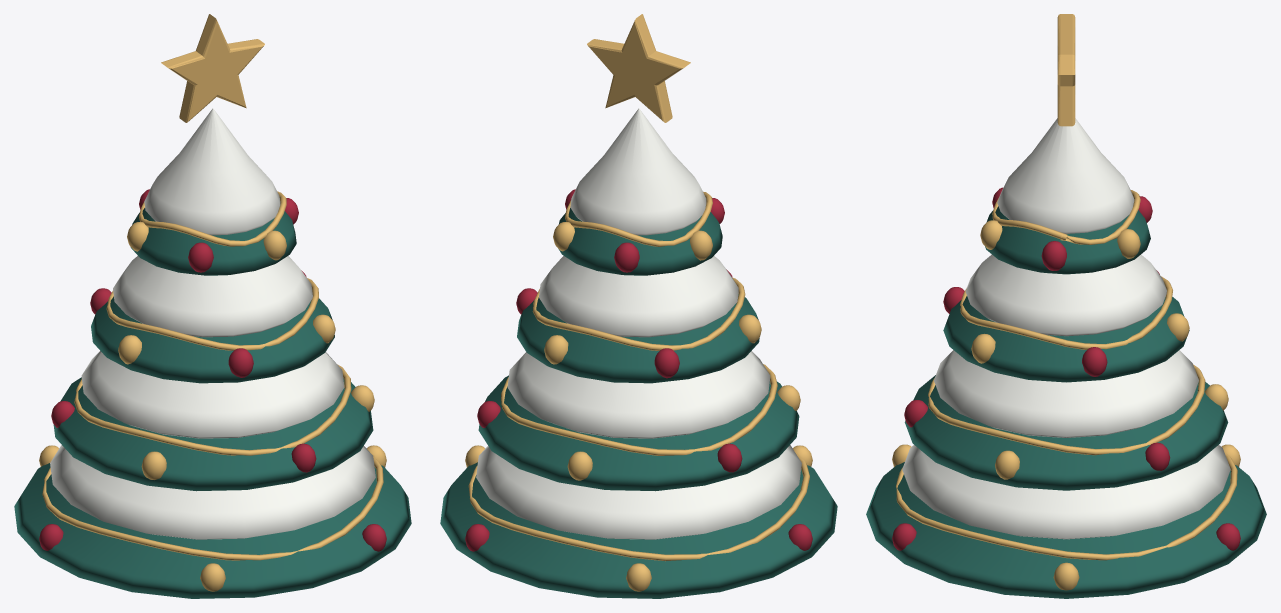
Rendered from arvore-com-estrela.glb.
3 renders of one model, left to right at view 1: azimuth 30°, elevation 25°; view 2: azimuth 150°, elevation 25°; view 3: azimuth 270°, elevation 25°, orthographic.
Visible parts, largest first — view 1: cream, pine, brass, berry; view 2: cream, pine, brass, berry; view 3: cream, pine, brass, berry.
Boxes of the visible parts, <box> form: cream: <box>50,108,375,539</box>; pine: <box>14,208,411,598</box>; brass: <box>39,14,386,591</box>; berry: <box>39,189,386,551</box>; cream: <box>476,108,801,539</box>; pine: <box>440,208,837,598</box>; brass: <box>465,14,812,591</box>; berry: <box>465,189,812,551</box>; cream: <box>902,118,1230,539</box>; pine: <box>866,206,1266,598</box>; brass: <box>892,14,1240,590</box>; berry: <box>892,187,1240,550</box>.
Size of the model in its own units: 2.21 by 3.48 by 2.21.
